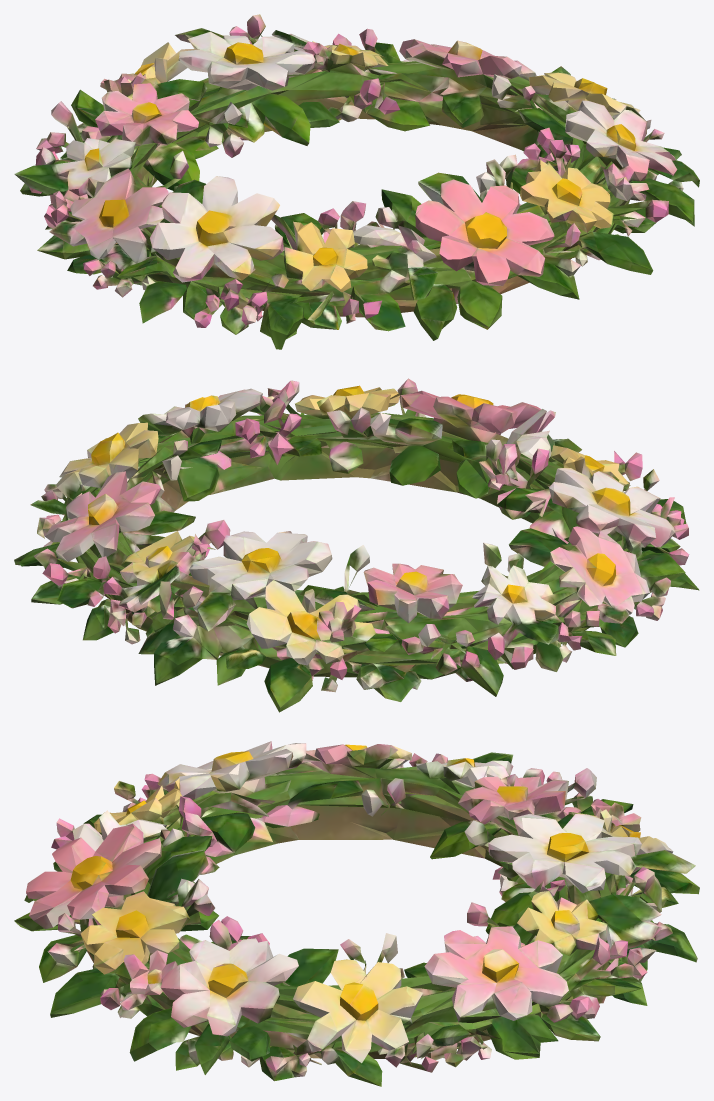
File: flower_crown.glb
The picture shows the model from 3 angles, top to bottom: view 1: azimuth 30°, elevation 25°; view 2: azimuth 150°, elevation 25°; view 3: azimuth 270°, elevation 25°; orthographic projection. The views are drawn at different scales.
Bounding box in the file's own units: 1.9 × 0.3193 × 1.86.
1 material, 1 textured.
